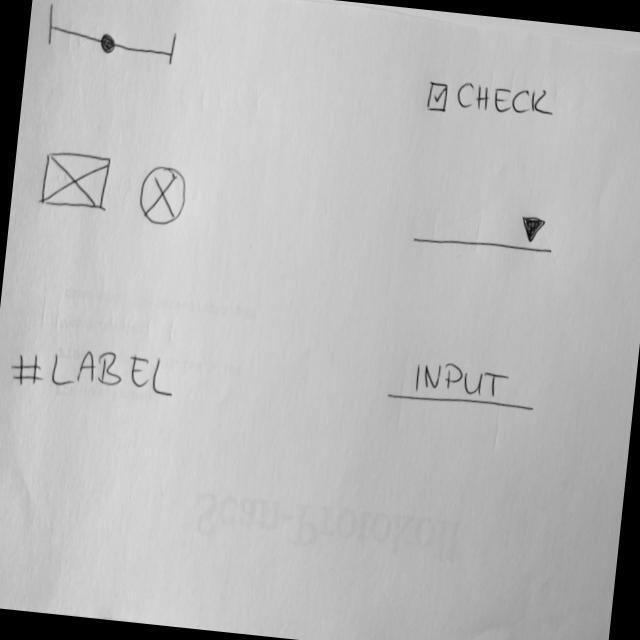checkbox: (426, 75, 559, 126)
image: (39, 147, 116, 214), (136, 162, 191, 232)
input: (387, 355, 541, 418)
label: (8, 340, 179, 405)
select: (412, 201, 560, 259)
slider: (44, 1, 183, 67)
